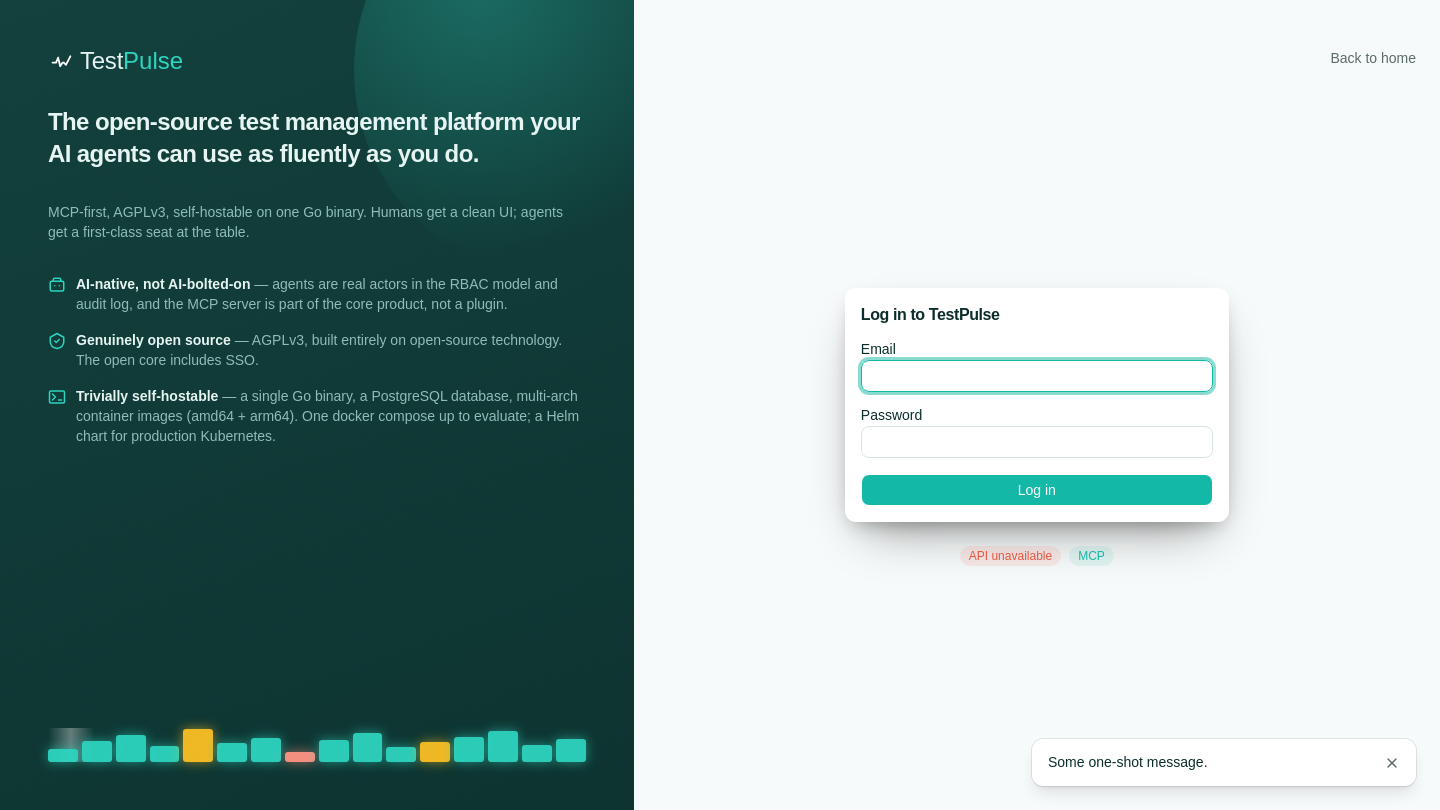
LoginPage › clears the router-state message after dismissing, so a refresh does not re-show it
Click the button named "dismiss": (1392, 763) top-left (1384, 755), bottom-right (1400, 771)
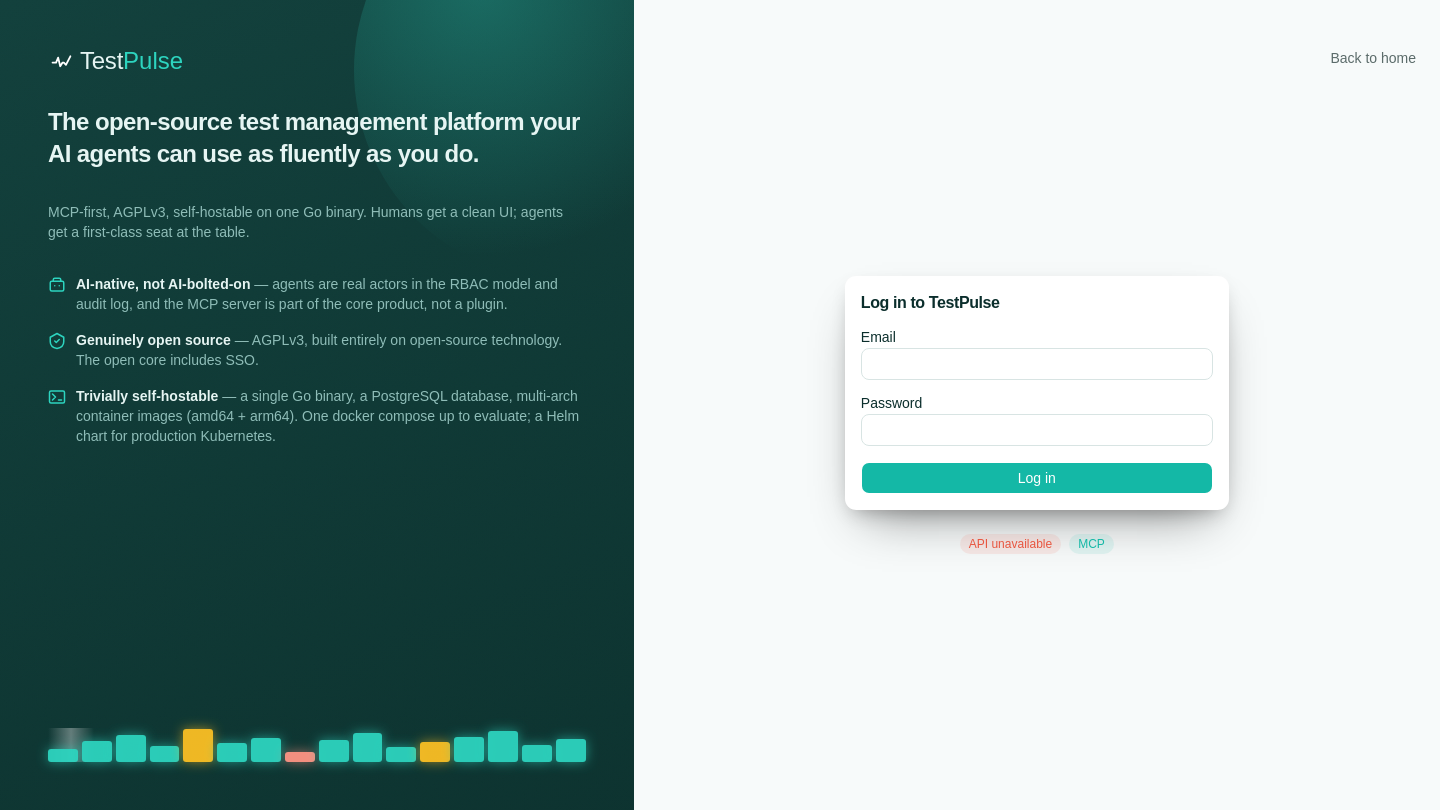
Now the text "Some one-shot message." is gone
